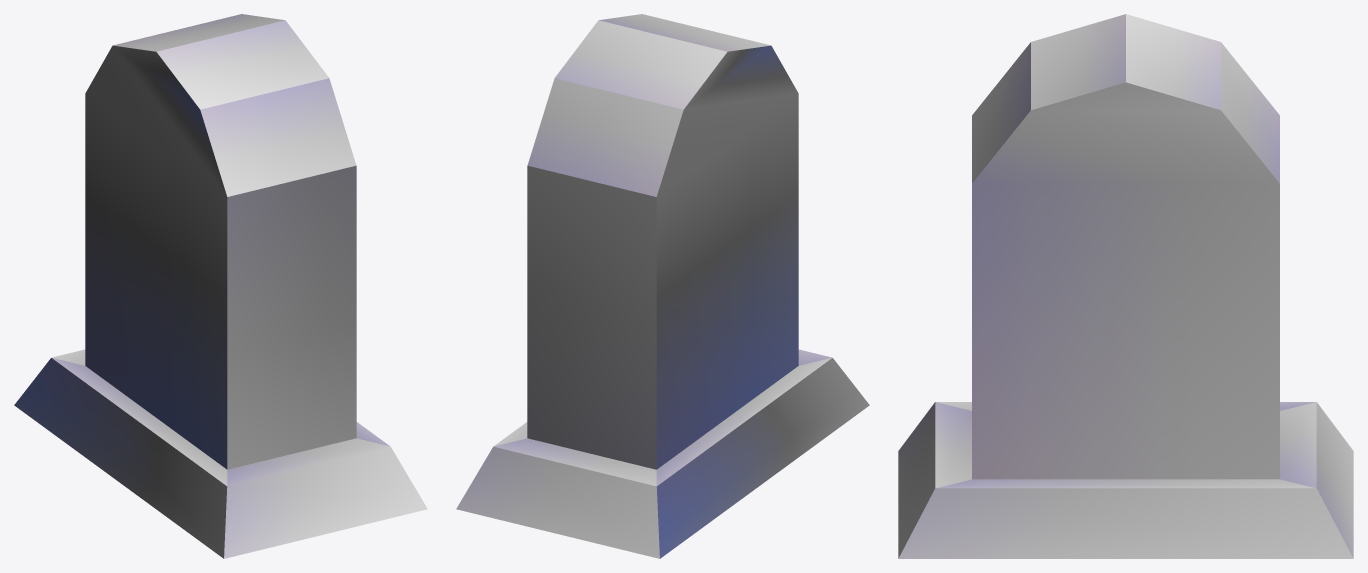
File: tombStone04.fbx
3 renders of one model, left to right at view 1: azimuth 30°, elevation 25°; view 2: azimuth 150°, elevation 25°; view 3: azimuth 270°, elevation 25°, orthographic. The views are drawn at different scales.
Parts seen in each view (by area): view 1: tombStone04; view 2: tombStone04; view 3: tombStone04.
Boxes of the visible parts, bbox=[...] form: tombStone04: bbox=[14, 14, 427, 558]; tombStone04: bbox=[456, 14, 869, 558]; tombStone04: bbox=[898, 14, 1353, 558].
Size of the model in its own units: 78.9 by 156 by 141.
